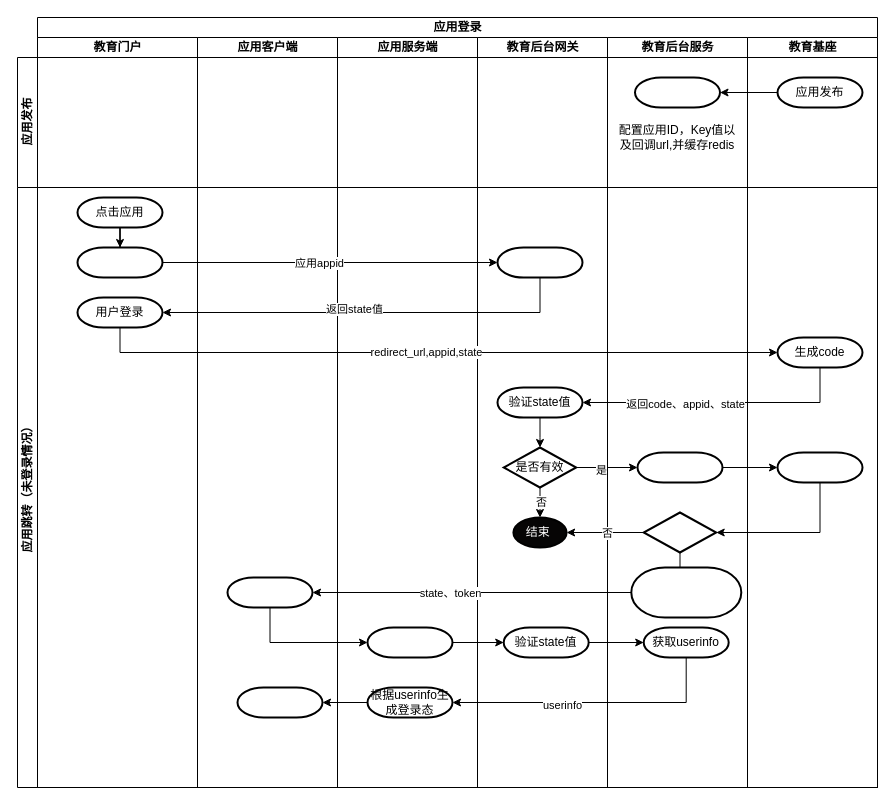
The diagram is 895 pixels wide and 805 high, and some of its shapes have lost their labels. Here are the shapes that lost their labels. From the top down, the centre of each, then its label:
At pixel 677 92: "添加应用".
At pixel 119 262: "获取state".
At pixel 539 262: "生成唯一 state值".
At pixel 679 467: "code换取userinfo".
At pixel 819 467: "code换token".
At pixel 679 532: "是否成功".
At pixel 269 592: "回调页面".
At pixel 686 592: "生成token,根据appid获取回调url,并生成唯一state".
At pixel 409 642: "token换取userinfo".
At pixel 279 702: "业务交互".
